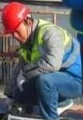boots: (52, 108, 83, 120), (57, 110, 83, 120)
gloves: (16, 63, 40, 92)
hard-hat: (0, 2, 31, 36)
vest: (16, 15, 78, 76)
